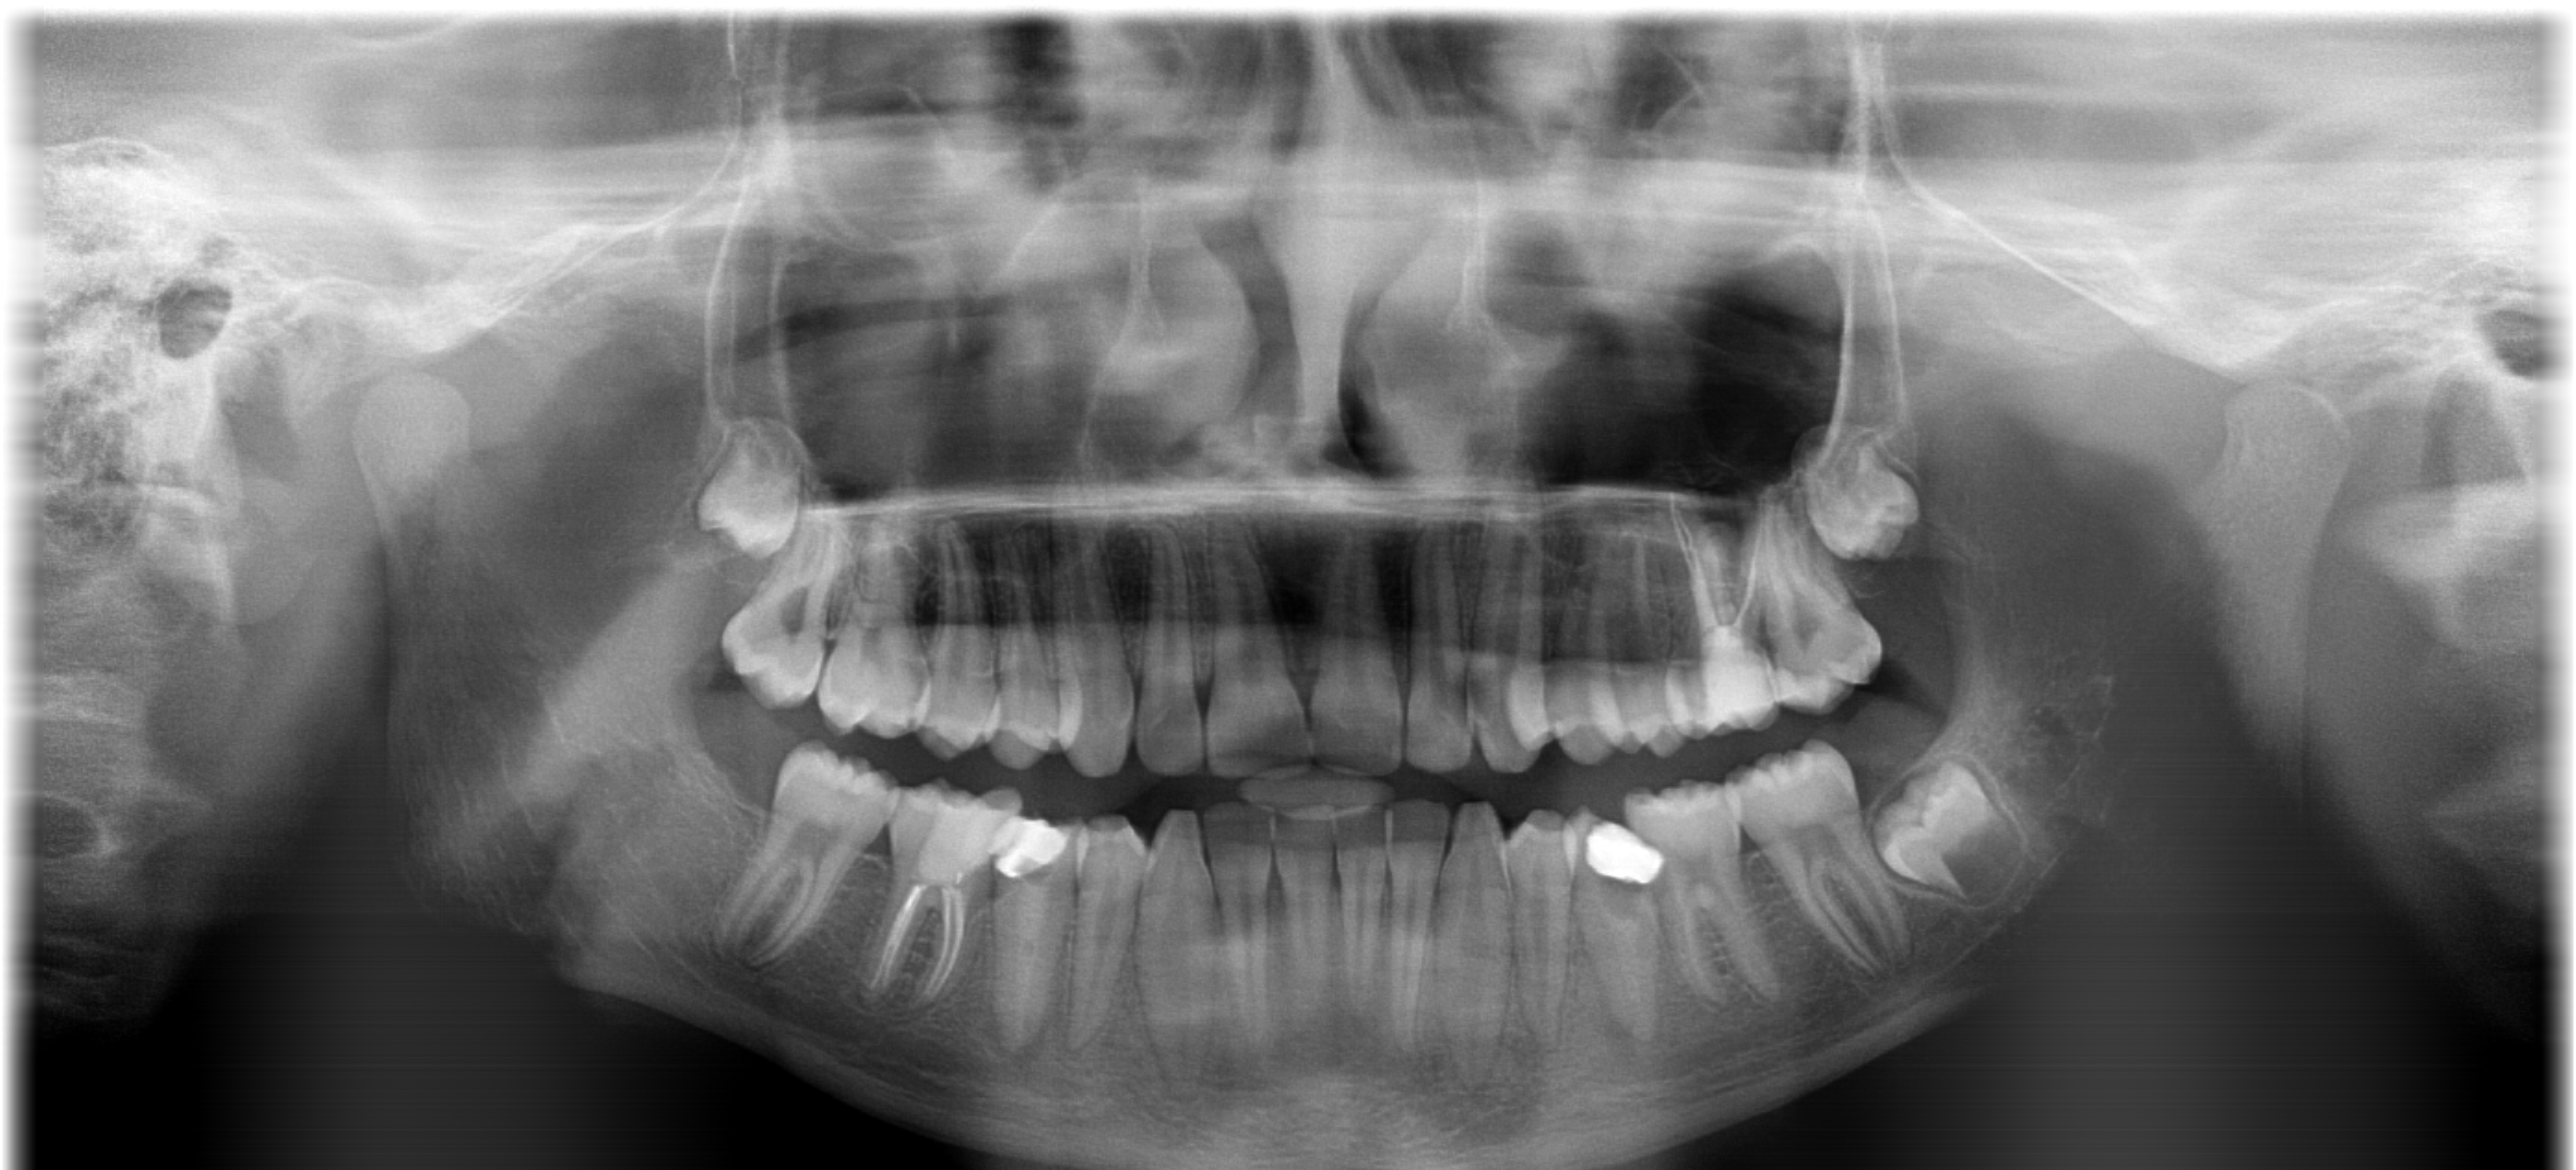cordal: (1853, 738, 2052, 935), (1771, 403, 1970, 600), (644, 383, 843, 580)
tratamiento_conducto: (844, 766, 1038, 1024), (1615, 486, 1809, 744)
